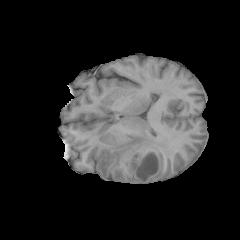glioma: (97, 133, 171, 181)
